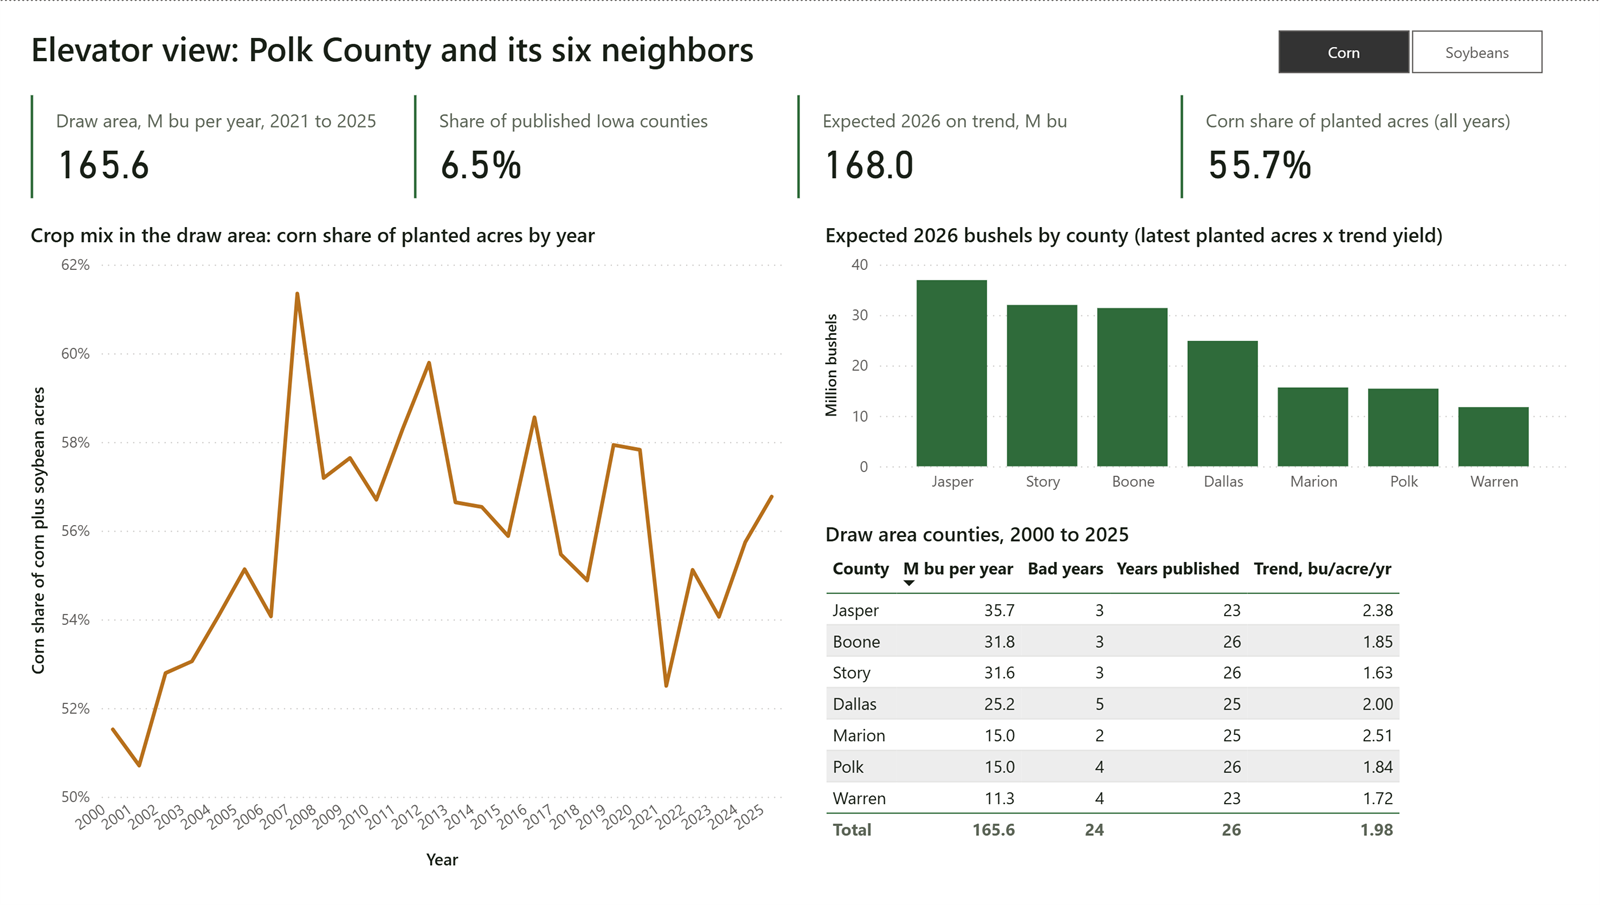

Layout of this report page (visuals, bound fields, positions):
{"tool":"powerbi","page":{"name":"Elevator view","canvas":[1280,720],"ordinal":3},"visuals":[{"type":"textbox","box":[24,14,940,48],"z":2700},{"type":"slicer","fields":{"Values":["Crop Type.Crop"]},"box":[996,16,260,48],"z":2800},{"type":"cardVisual","fields":{"Data":["Crop Year.Recent Production per Year (M bu)","Crop Year.Draw Area Share of State","Expected 2026.Expected 2026 (M bu)","Crop Year.Corn Share of Planted"]},"box":[24,70,1232,92],"z":2900},{"type":"lineChart","title":"Crop mix in the draw area: corn share of planted acres by year","fields":{"Category":["Crop Year.Year"],"Y":["Crop Year.Corn Share of Planted"]},"box":[24,174,608,522],"z":3000},{"type":"clusteredColumnChart","title":"Expected 2026 bushels by county (latest planted acres x trend yield)","fields":{"Category":["Expected 2026.County"],"Y":["Expected 2026.Expected 2026 (M bu)"]},"box":[656,174,600,226],"z":3100},{"type":"tableEx","title":"Draw area counties, 2000 to 2025","fields":{"Values":["County.County","Crop Year.Recent Production per Year (M bu)","Crop Year.Bad County Years","Crop Year.Published Years","Crop Year.Trend Slope (bu/acre/yr)"]},"box":[656,412,600,284],"z":3200}]}

Visuals, with their boxes in screenshot pixels (x1, y1, x2, y2), scaled from the page's 1280x720 canvas onto the 1600x905 screenshot:
textbox: crop(30, 18, 1205, 78)
slicer - Crop Type.Crop: crop(1245, 20, 1570, 80)
cardVisual - Crop Year.Recent Production per Year (M bu) x Crop Year.Draw Area Share of State: crop(30, 88, 1570, 204)
"Crop mix in the draw area: corn share of planted acres by year" lineChart: crop(30, 219, 790, 875)
"Expected 2026 bushels by county (latest planted acres x trend yield)" clusteredColumnChart: crop(820, 219, 1570, 503)
"Draw area counties, 2000 to 2025" tableEx: crop(820, 518, 1570, 875)
